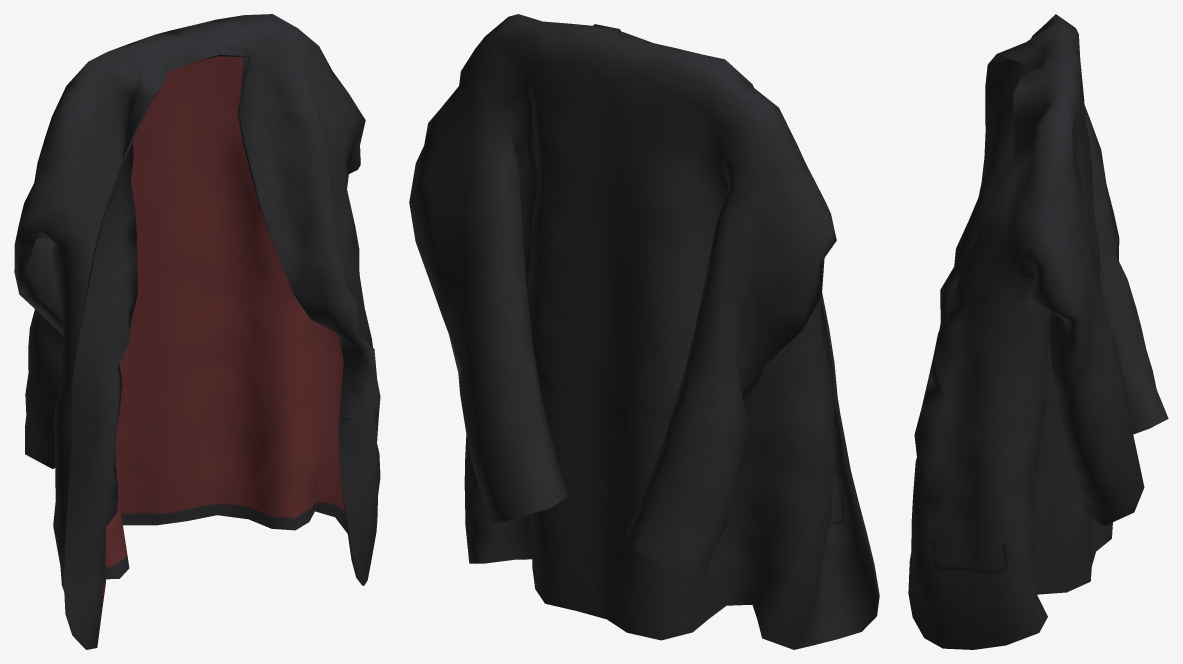
File: Jacket.fbx
3 views of the same model, side by side, from view 1: azimuth 30°, elevation 25°; view 2: azimuth 150°, elevation 25°; view 3: azimuth 270°, elevation 25° (orthographic). The views are drawn at different scales.
Parts seen in each view (by area): view 1: Jacket; view 2: Jacket; view 3: Jacket.
Part boxes in pixels (x1,y1,x2,y2): Jacket: [14, 14, 380, 649]; Jacket: [409, 14, 879, 649]; Jacket: [908, 14, 1168, 649].
Size of the model in its own units: 52.15 by 75.82 by 33.14.
